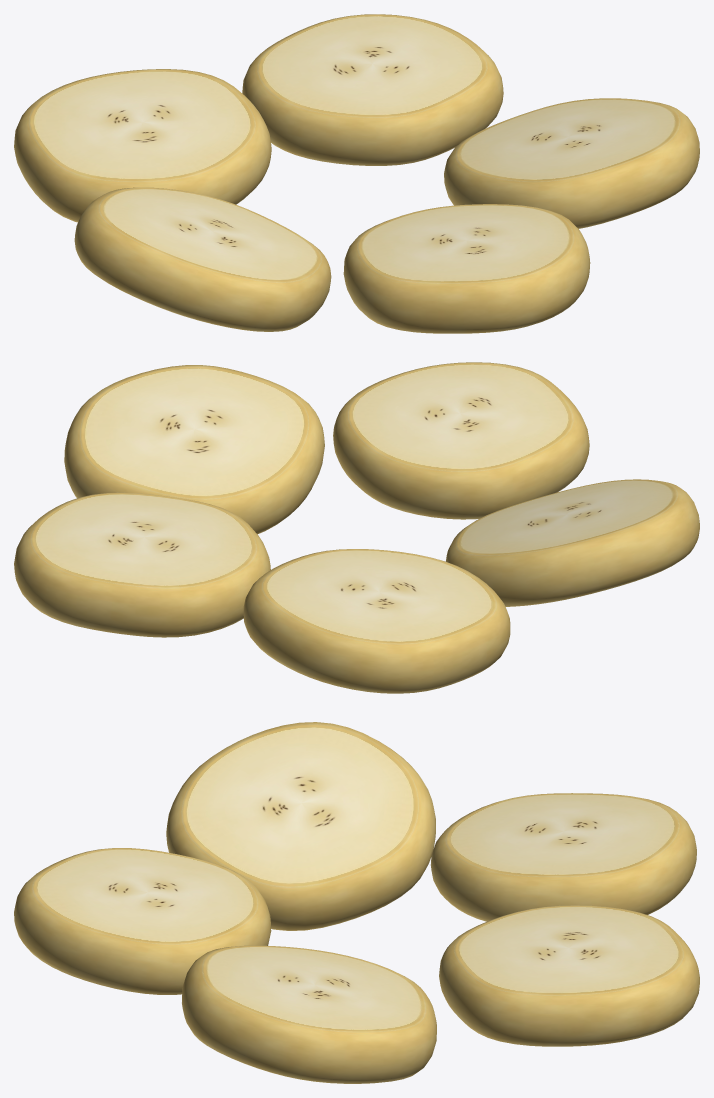
Rendered from banana.glb.
The picture shows the model from 3 angles, top to bottom: view 1: azimuth 30°, elevation 25°; view 2: azimuth 150°, elevation 25°; view 3: azimuth 270°, elevation 25°; orthographic projection. The views are drawn at different scales.
Visible parts, largest first — view 1: banana_4, banana_3, banana_1, banana_2, banana_0; view 2: banana_1, banana_0, banana_3, banana_4, banana_2; view 3: banana_2, banana_4, banana_0, banana_1, banana_3.
Boxes of the visible parts, x1=… form: banana_4: x1=242, y1=14, x2=503, y2=165; banana_3: x1=14, y1=69, x2=271, y2=222; banana_1: x1=343, y1=204, x2=590, y2=333; banana_2: x1=74, y1=187, x2=331, y2=331; banana_0: x1=444, y1=98, x2=699, y2=228; banana_1: x1=333, y1=362, x2=589, y2=519; banana_0: x1=64, y1=365, x2=324, y2=534; banana_3: x1=243, y1=549, x2=510, y2=693; banana_4: x1=14, y1=492, x2=270, y2=637; banana_2: x1=446, y1=479, x2=699, y2=606; banana_2: x1=166, y1=722, x2=435, y2=930; banana_4: x1=439, y1=905, x2=699, y2=1046; banana_0: x1=182, y1=945, x2=436, y2=1083; banana_1: x1=14, y1=848, x2=271, y2=994; banana_3: x1=430, y1=793, x2=696, y2=921.
Size of the model in its own units: 0.8846 by 0.1553 by 0.8519.
1 material, 1 textured.
